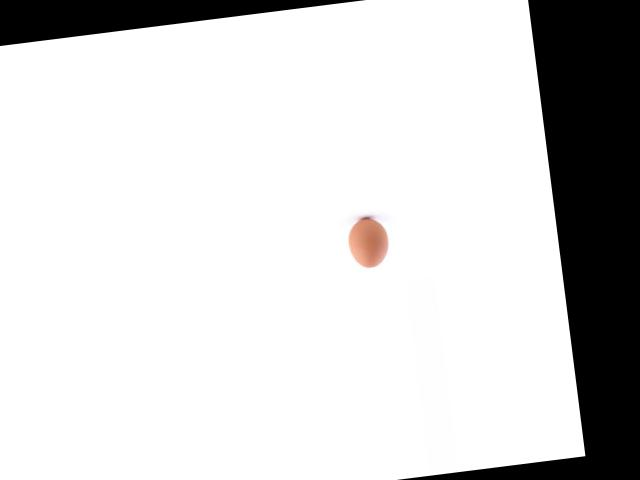egg: (346, 216, 392, 269)
